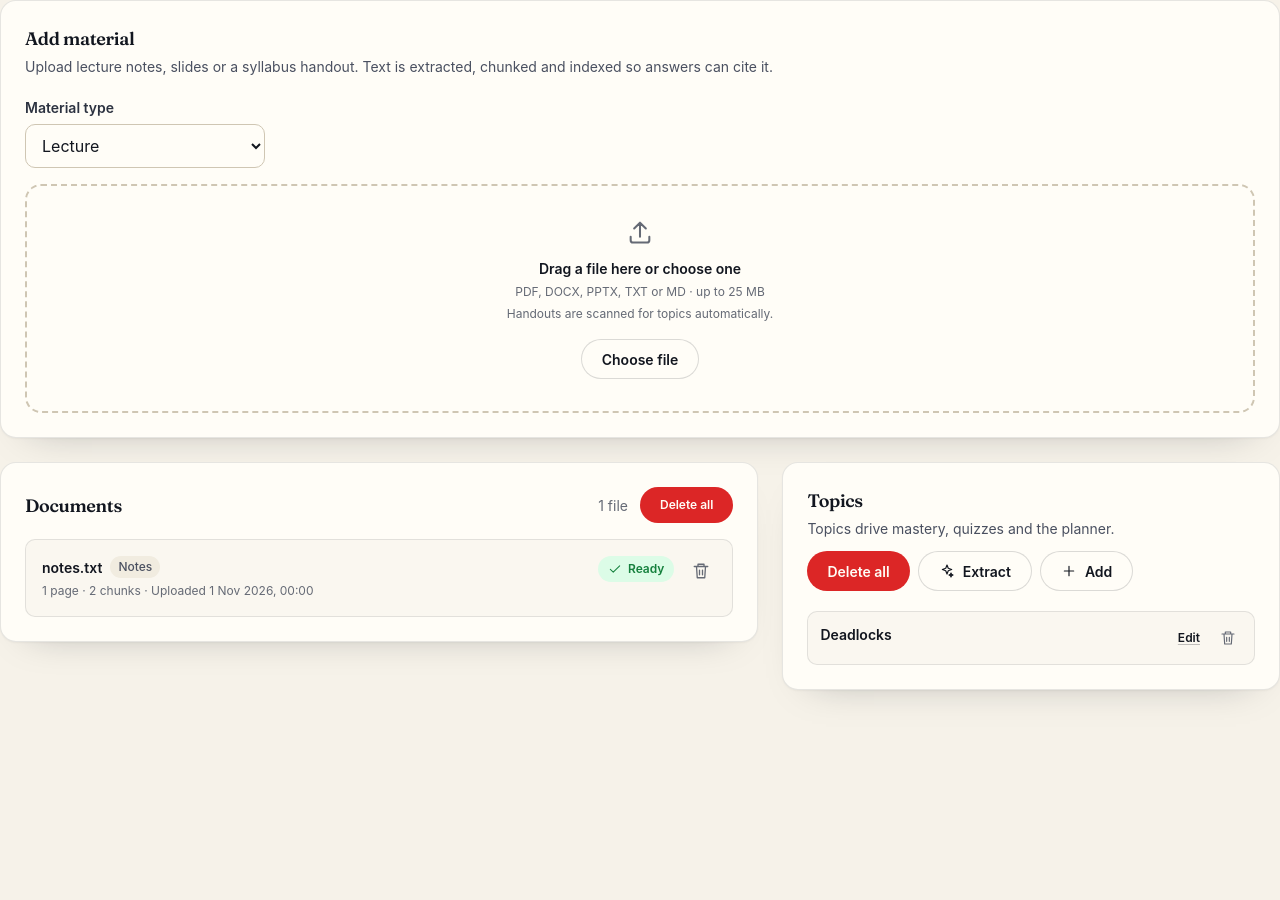
Scenario: LibraryPage delete all › deletes all documents after the typed confirmation matches in any case
This screenshot has width=1280, height=900.
Expected: the text "notes.txt" is shown, [42,556,102,578]
Step 1. Click the button with aria-label "Delete all documents" → (687, 505), box [640,487,733,523]
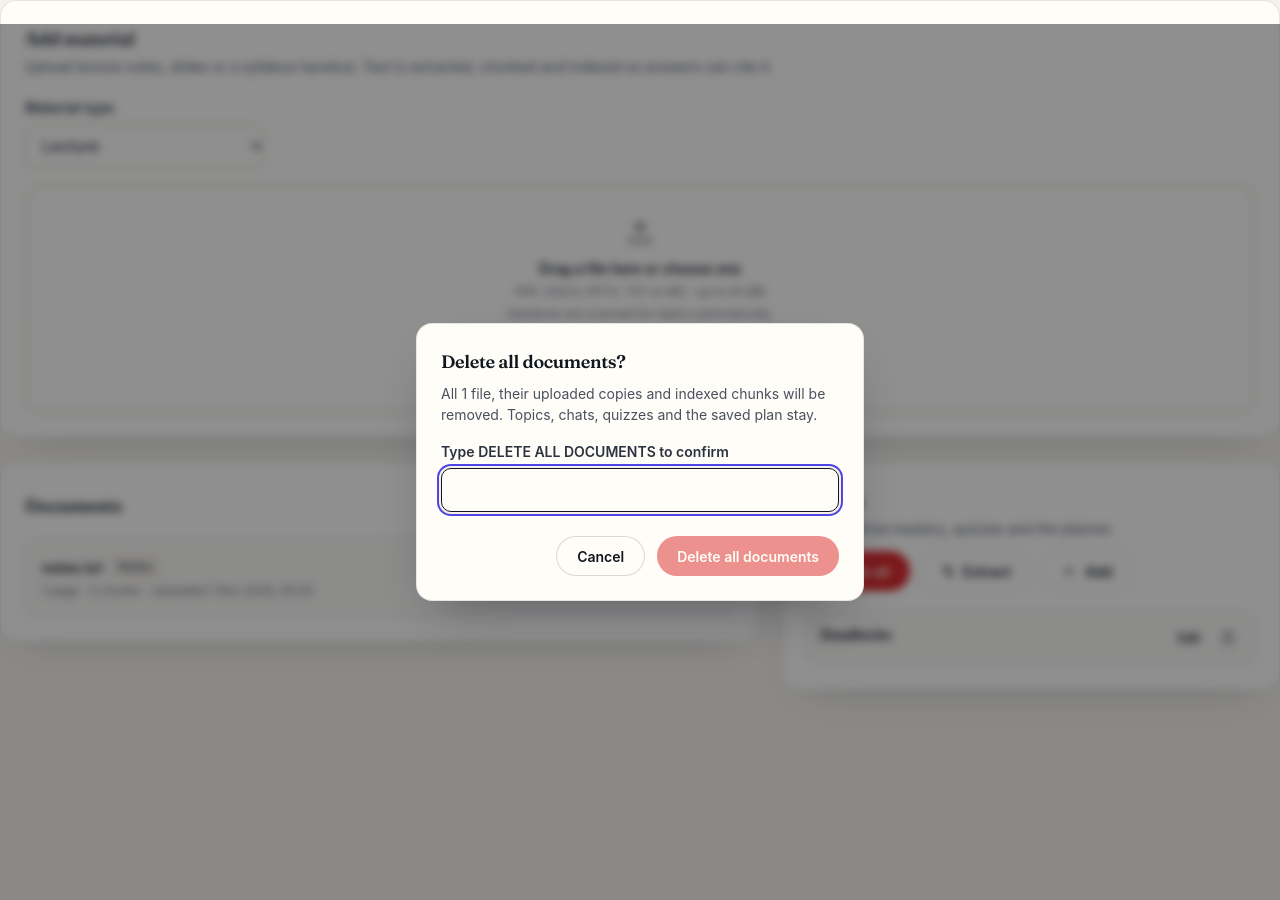
Now the button "Delete all documents" is disabled, box [657,536,839,576]
Step 2. Type "delete all documents" into the field labelled "Type DELETE ALL DOCUMENTS to confirm" → (640, 490), box [441,468,839,512]
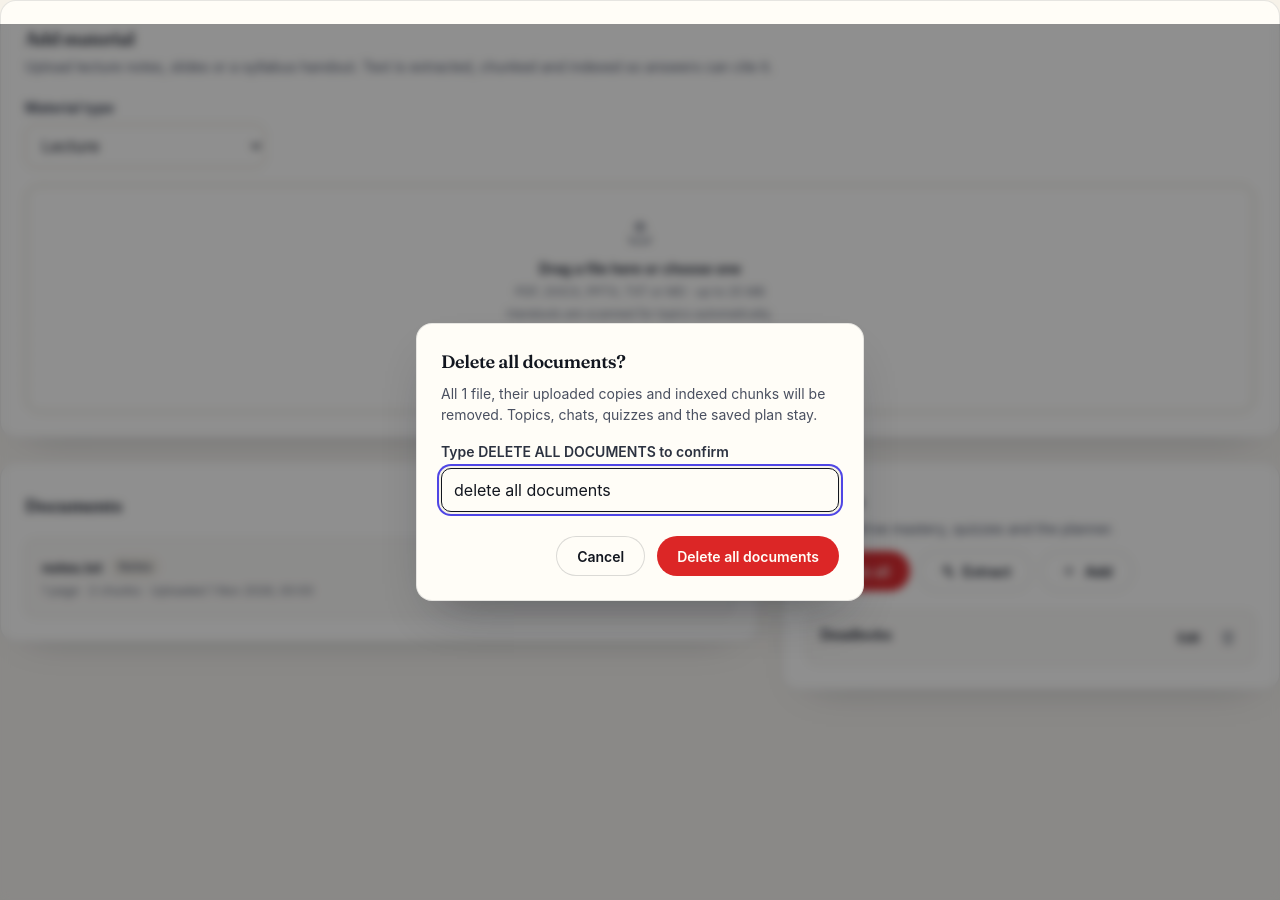
Now the button "Delete all documents" is enabled
Step 3. Click the button "Delete all documents" → (748, 556), box [657,536,839,576]
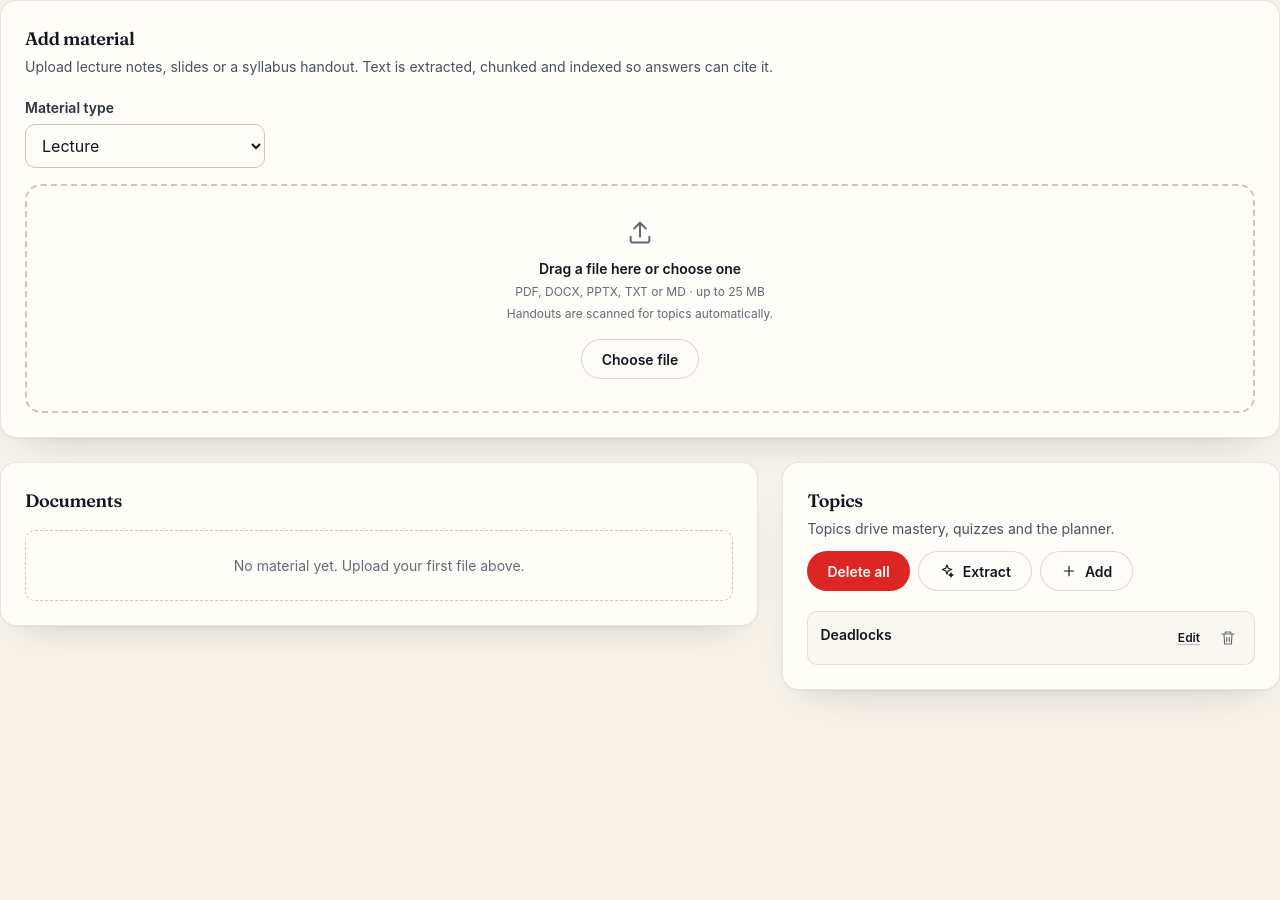
Expected: the text "Deadlocks" is shown, [820,624,892,645]
Now the dialog is gone
Now the text "No material yet. Upload your first file above." is shown, box [25,530,733,601]
